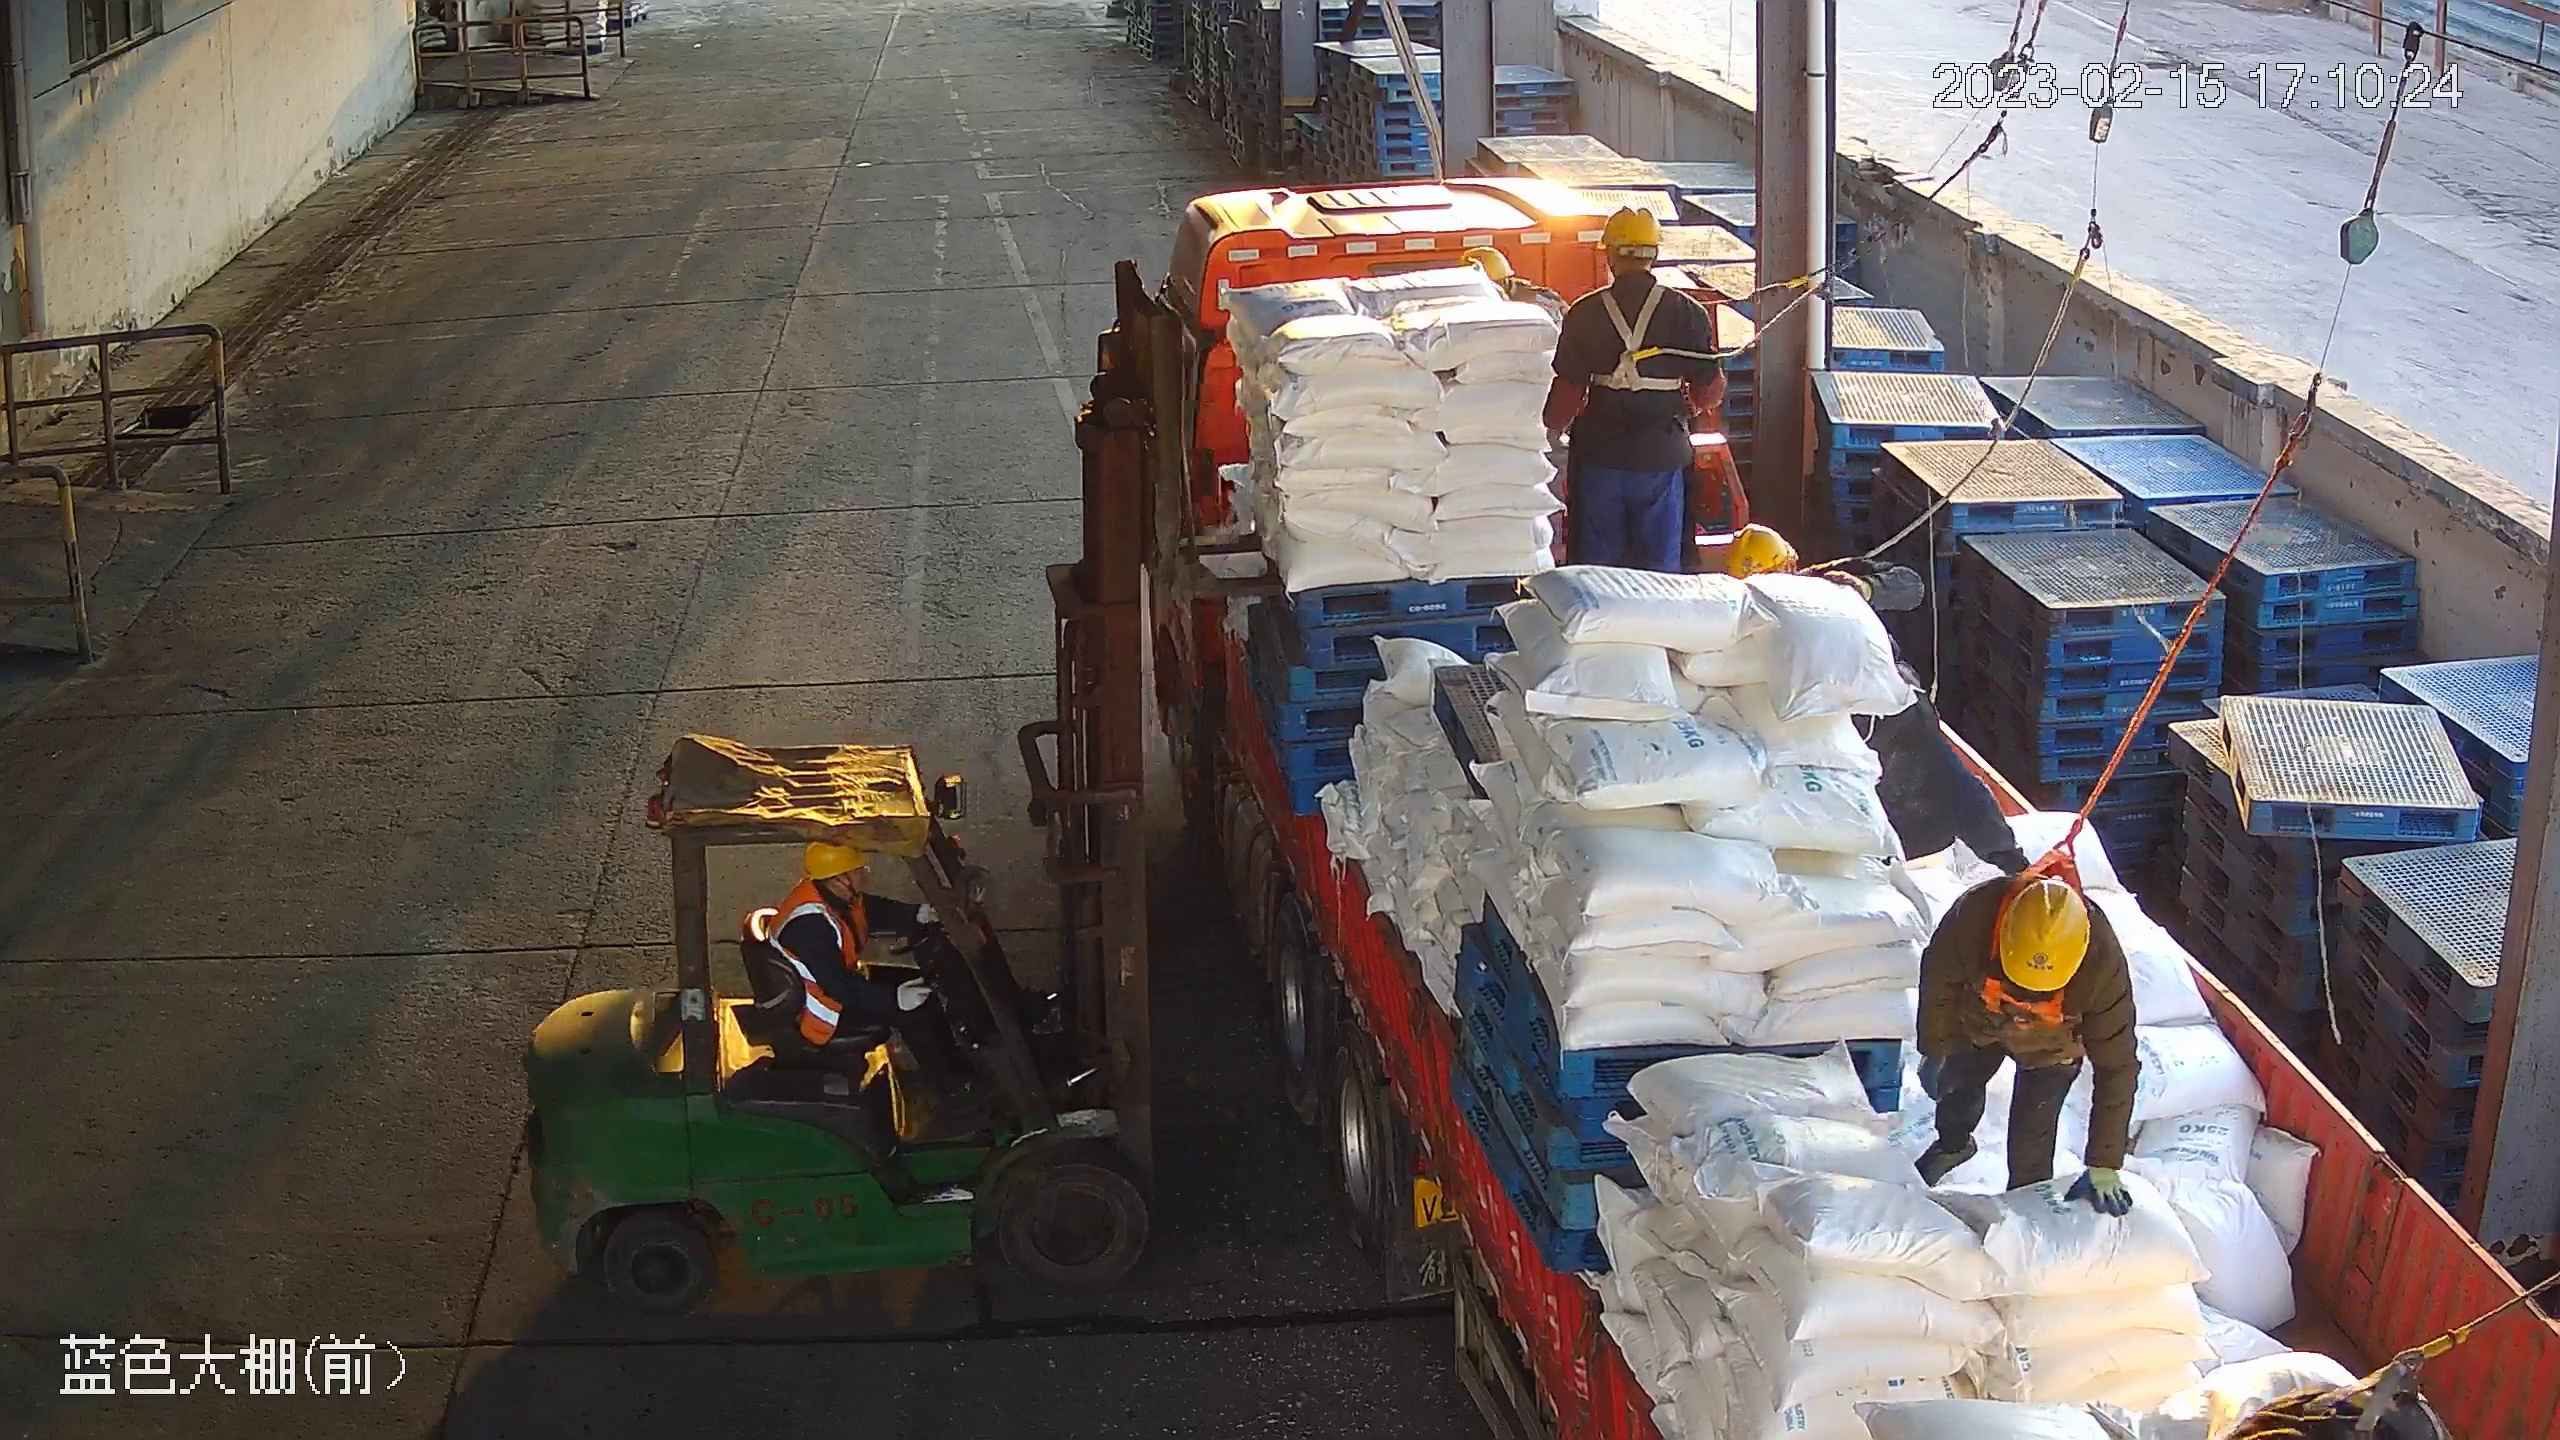belt: (1982, 819, 2101, 1033), (2278, 1327, 2486, 1440), (1574, 285, 1685, 397)
head: (1937, 872, 2122, 1032), (1557, 202, 1709, 337), (778, 837, 932, 955)
helmet: (1999, 878, 2088, 986), (1729, 522, 1797, 581), (1601, 204, 1667, 251), (802, 834, 862, 883), (1461, 248, 1517, 279)
people: (1727, 521, 2028, 884), (1913, 874, 2136, 1227), (1544, 207, 1727, 581), (778, 836, 1004, 1127)
truck: (1102, 171, 2560, 1440)
